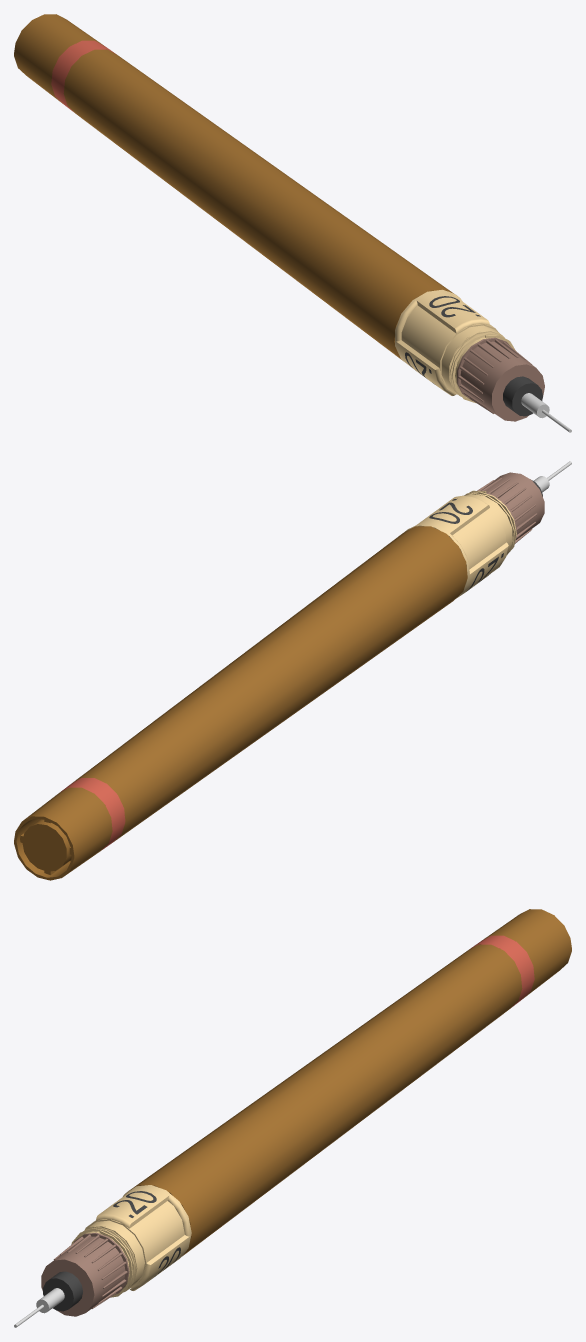
File: pen.glb
The picture shows the model from 3 angles, top to bottom: view 1: azimuth 30°, elevation 25°; view 2: azimuth 150°, elevation 25°; view 3: azimuth 330°, elevation 25°; orthographic projection.
Visible parts, largest first — view 1: object8, object10, object7, object25, object2, object9, object11, object3, object5; view 2: object8, object7, object10, object25, object1, object2, object9, object3; view 3: object8, object10, object7, object25, object2, object9, object11, object3, object5.
Part boxes in pixels (<box>): object8: <box>63,49,453,360</box>; object10: <box>458,339,544,421</box>; object7: <box>14,14,103,103</box>; object25: <box>395,289,489,395</box>; object2: <box>401,305,498,394</box>; object9: <box>51,40,116,111</box>; object11: <box>503,376,542,416</box>; object3: <box>441,325,502,393</box>; object5: <box>449,332,515,403</box>; object8: <box>73,526,467,841</box>; object7: <box>14,787,112,880</box>; object10: <box>477,472,544,543</box>; object25: <box>405,495,508,598</box>; object1: <box>20,819,71,875</box>; object2: <box>452,508,505,569</box>; object9: <box>61,778,125,850</box>; object3: <box>466,494,512,554</box>; object8: <box>128,944,522,1256</box>; object10: <box>41,1234,127,1316</box>; object7: <box>482,909,571,998</box>; object25: <box>96,1185,191,1290</box>; object2: <box>85,1201,184,1287</box>; object9: <box>469,935,534,1008</box>; object11: <box>43,1271,82,1311</box>; object3: <box>87,1220,144,1290</box>; object5: <box>71,1226,136,1297</box>.
Bounding box in the file's own units: 10.99 × 11 × 136.
